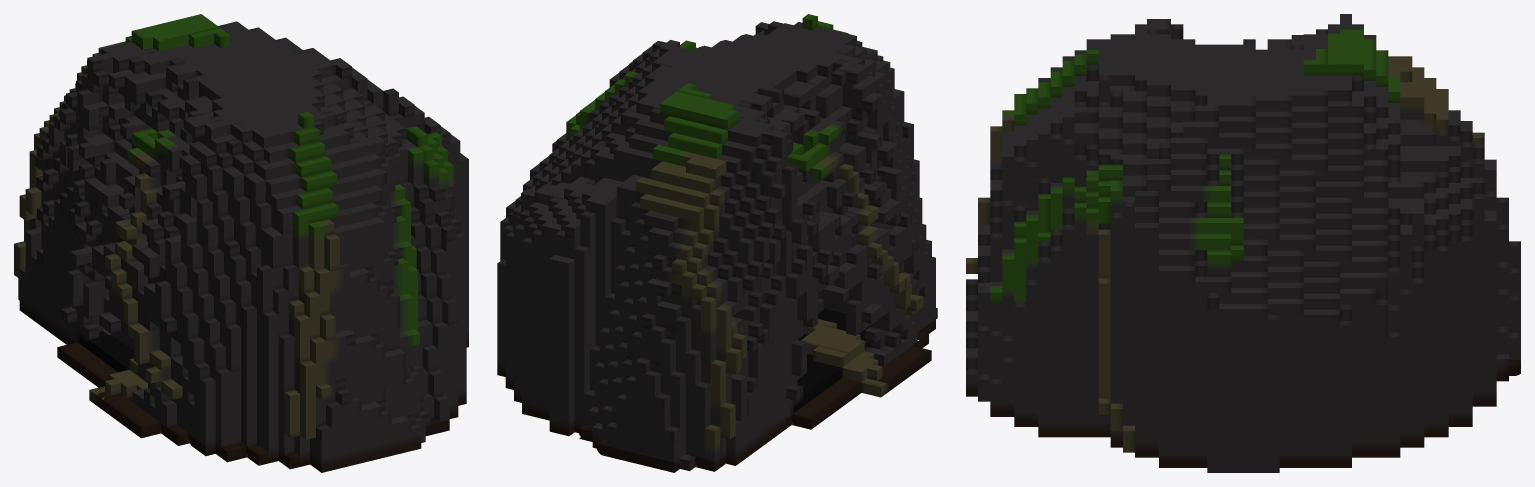
File: Siedlisko_szczurow.dae
The picture shows the model from 3 angles, left to right: view 1: azimuth 30°, elevation 25°; view 2: azimuth 150°, elevation 25°; view 3: azimuth 270°, elevation 25°; orthographic projection. The views are drawn at different scales.
Parts seen in each view (by area): view 1: Siedlisko_szczurow; view 2: Siedlisko_szczurow; view 3: Siedlisko_szczurow.
Boxes of the visible parts, x1,y1,x2,y2 form: Siedlisko_szczurow: [14, 14, 468, 472]; Siedlisko_szczurow: [497, 14, 937, 472]; Siedlisko_szczurow: [966, 14, 1520, 472].
Bounding box in the file's own units: 35 × 29 × 46.
1 material, 1 textured.
